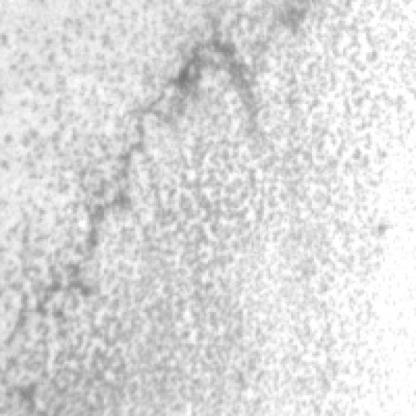pitted_surface: (2, 0, 408, 408)
